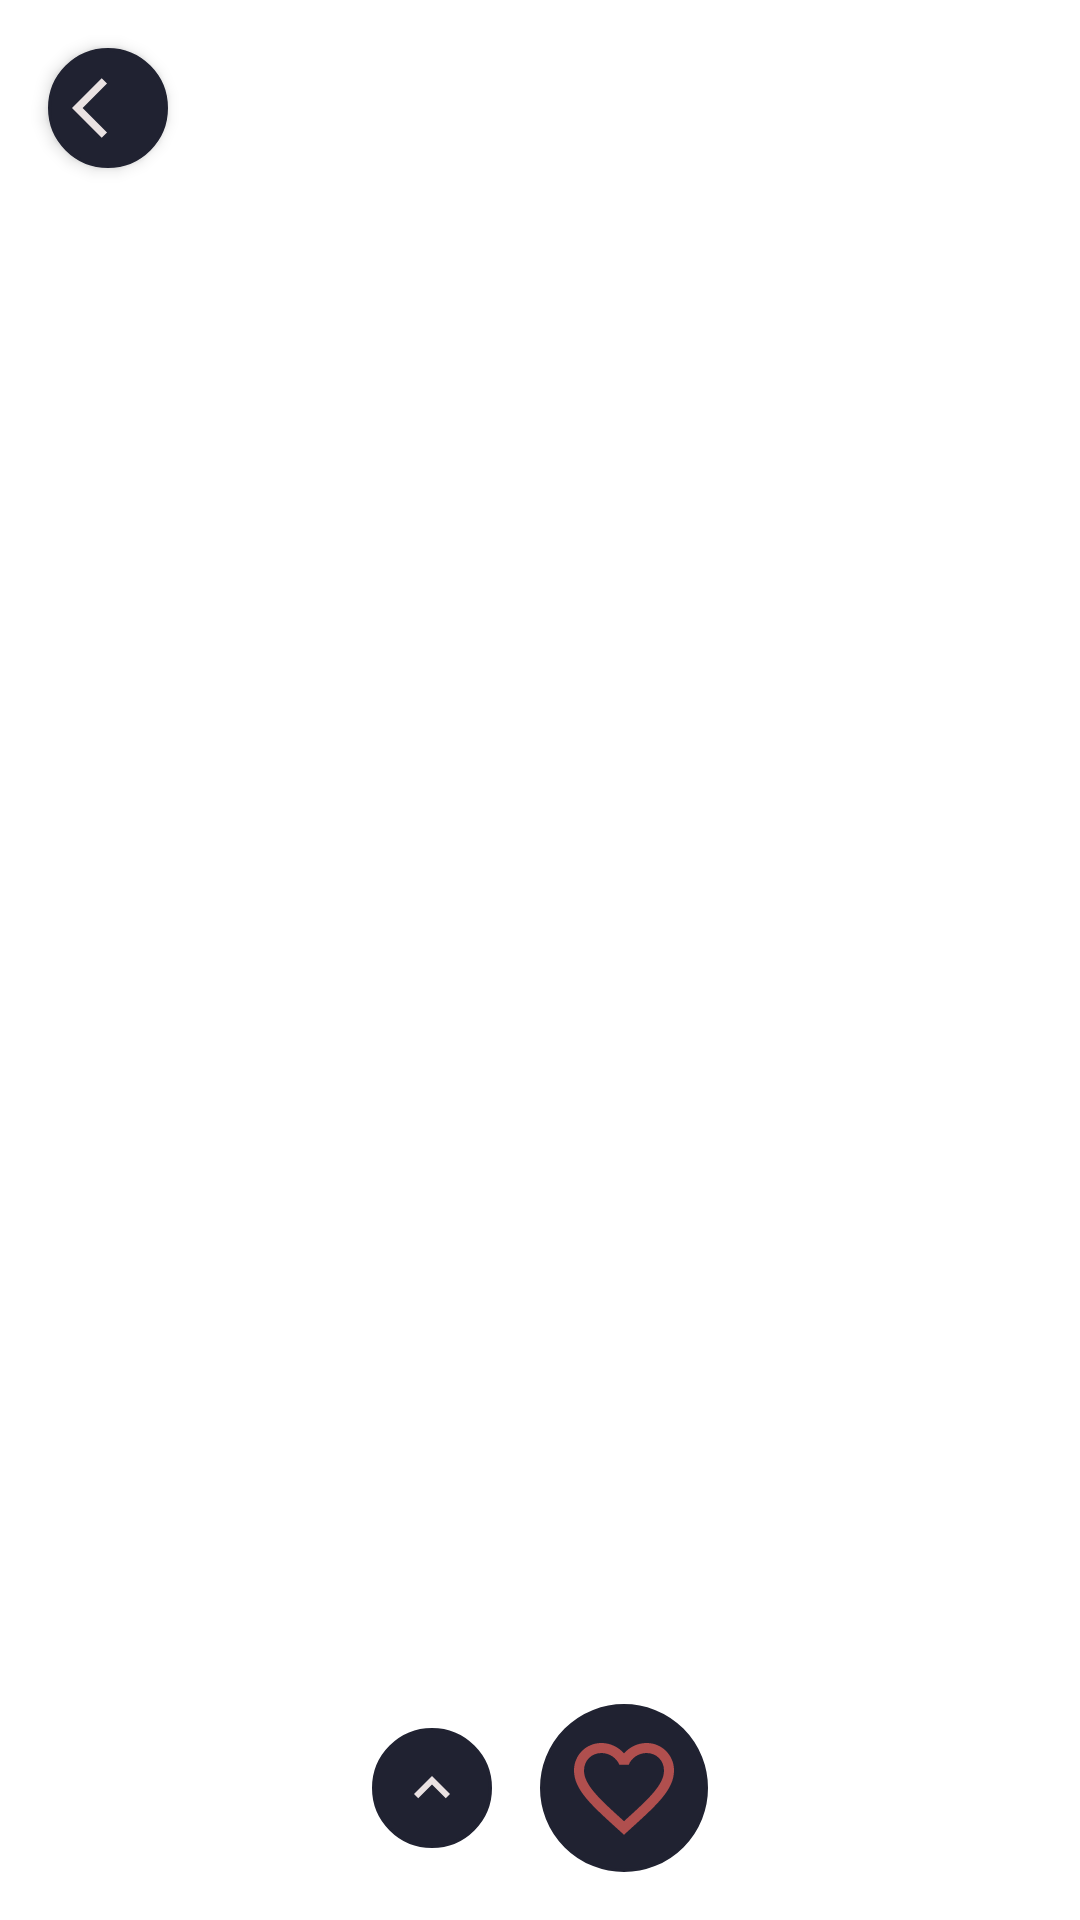

Icons on this 1080 x 1920 Android screen, each with the point to tap as (x=x, y=y):
back: (x=108, y=108)
heart: (x=624, y=1788)
